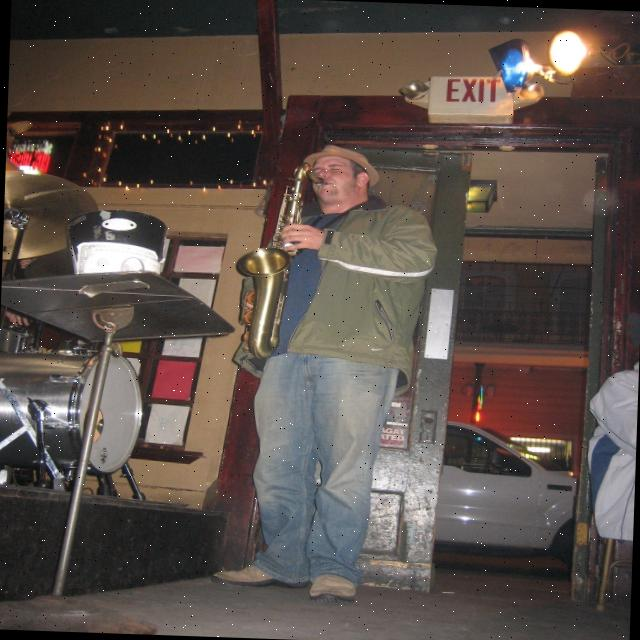drums: (0, 157, 187, 502)
saxophone: (240, 162, 314, 364)
